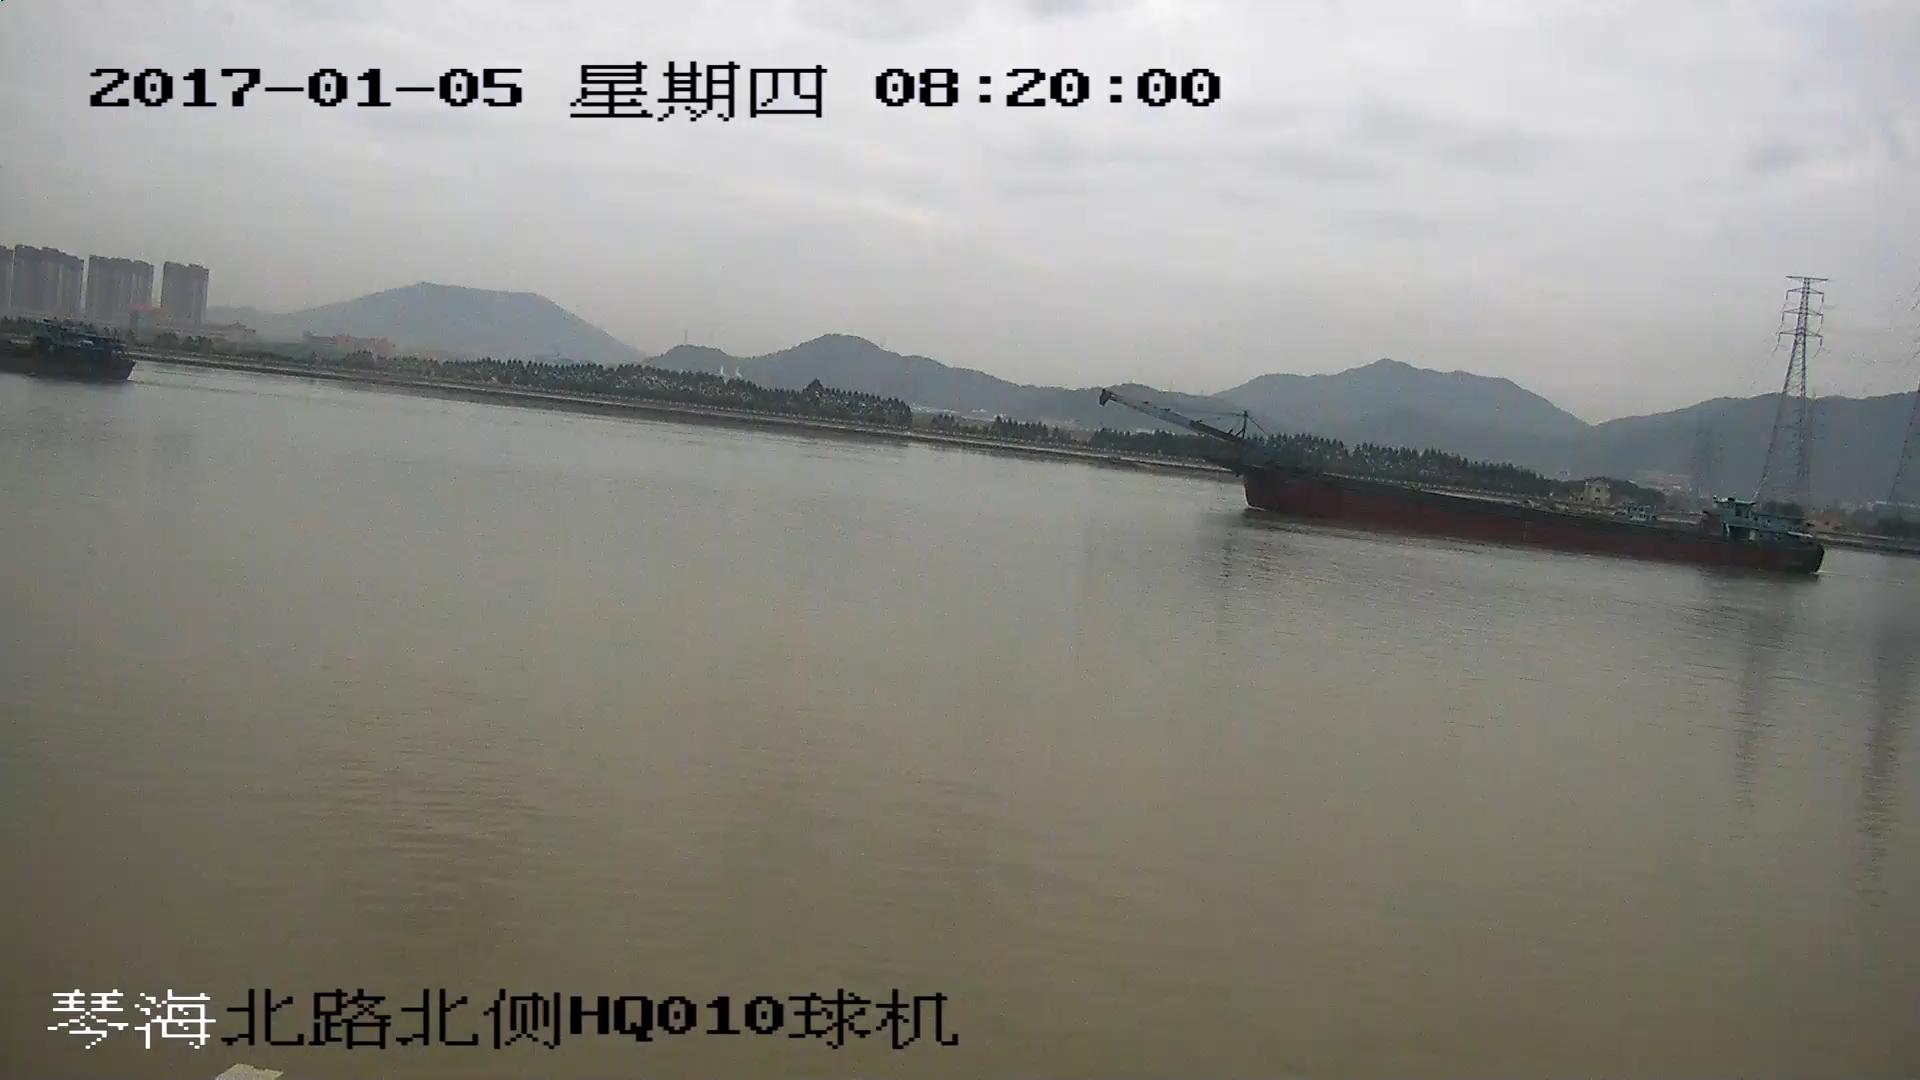bulk cargo carrier: (1094, 399, 1821, 575)
